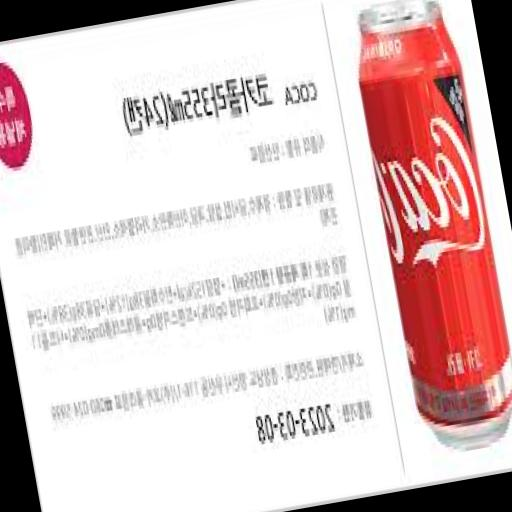Coca: (337, 0, 512, 465)
